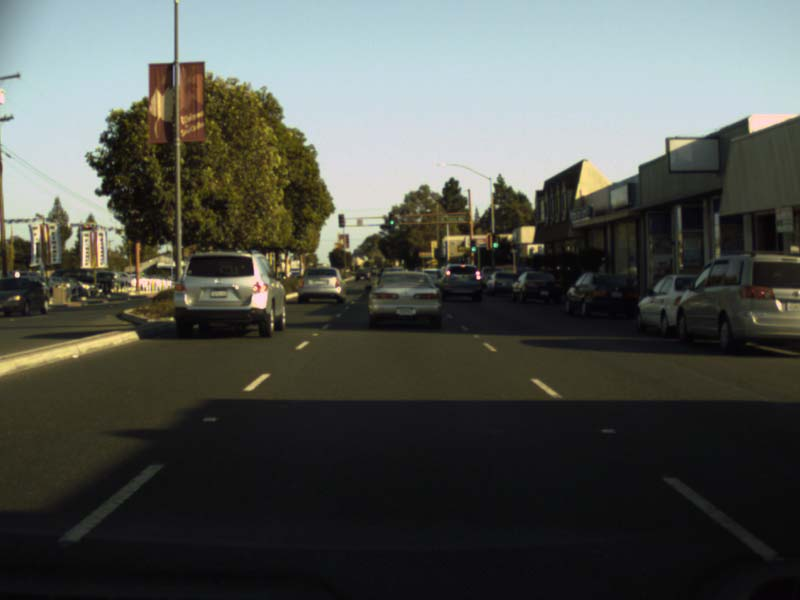Green: (492, 233, 498, 248), (388, 212, 394, 224), (470, 239, 476, 251)
